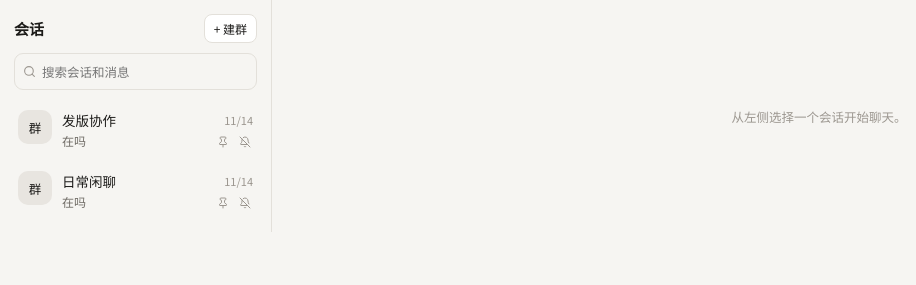
Test: 会话搜索框 › 正文里的 Markdown 图片在结果行里压成 [图片]
Type "联调" into the field labelled "搜索会话和消息" at [136, 72], box 14,53 -> 257,90
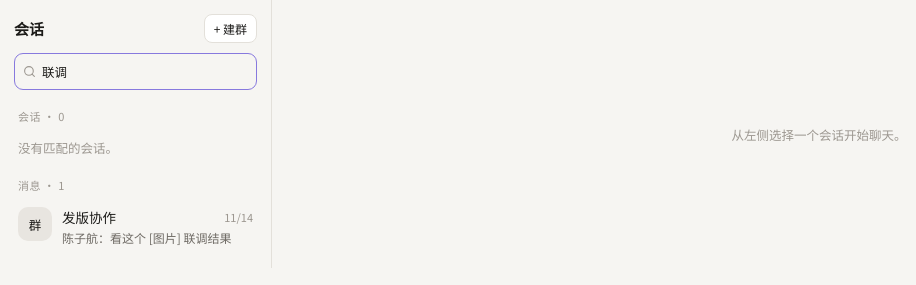
Expected: the button "群 发版协作 11/14 陈子航：看这个 [图片] 联调结果" does not show "/uploads/a.png", 8,197 -> 263,256
Expected: the button "群 发版协作 11/14 陈子航：看这个 [图片] 联调结果" is shown, 8,197 -> 263,256
